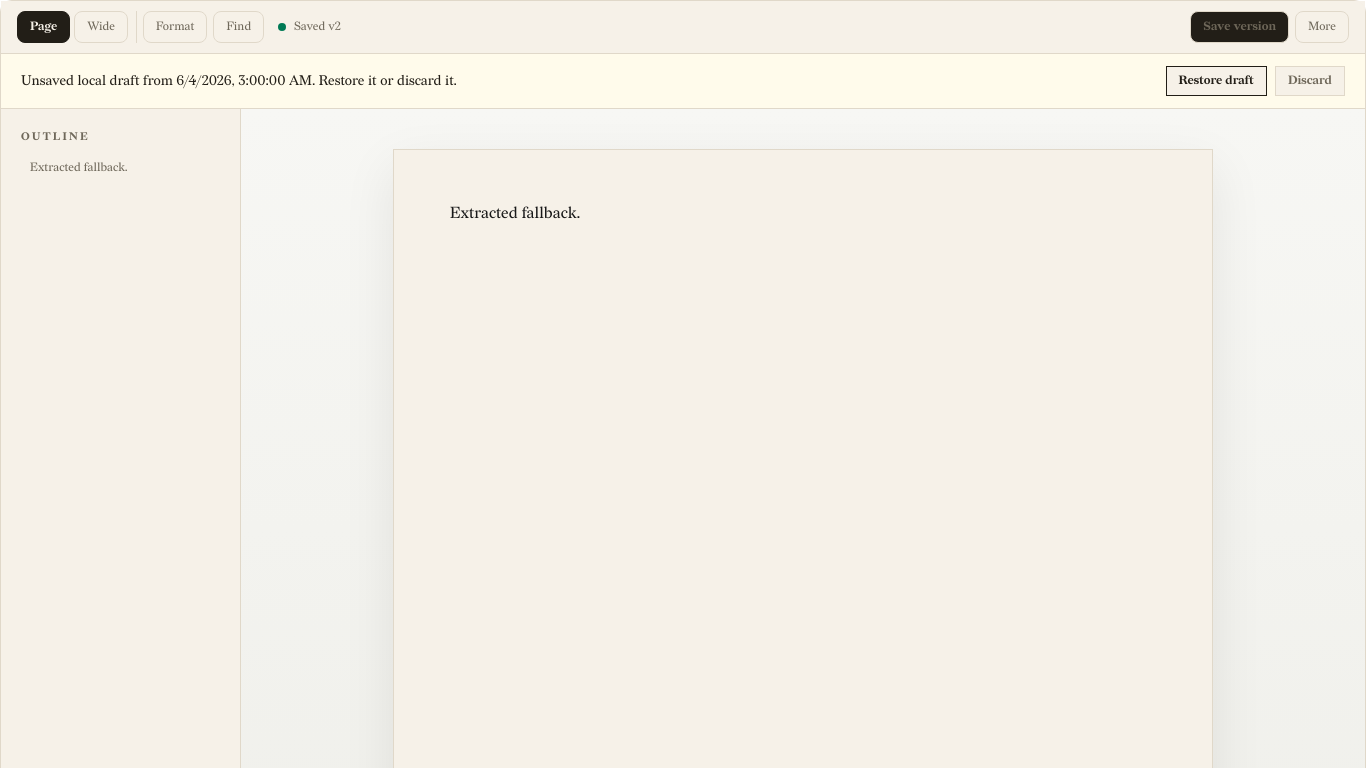
Test: DocumentRichEditor surface › warns instead of overwriting when a newer shared draft appears over local edits
Step 1. Click the button "Restore draft" → (1216, 81), box [1166,66,1267,96]
Wait 15000 ms
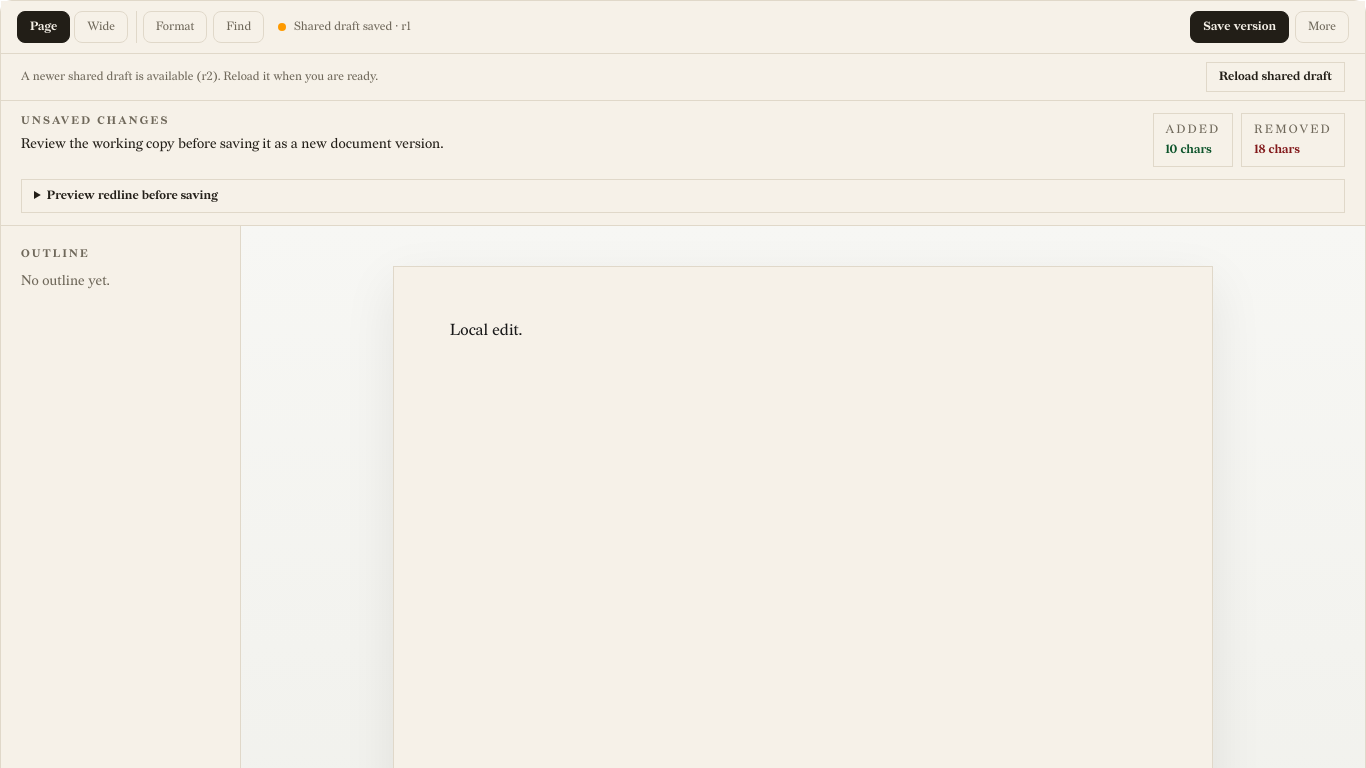
Result: the element with test id "document-editor-canvas" reads "Local edit." at [450,321,522,340]
Result: the element with test id "document-remote-draft-notice" shows "A newer shared draft is available (r2)." at [21,69,378,84]
